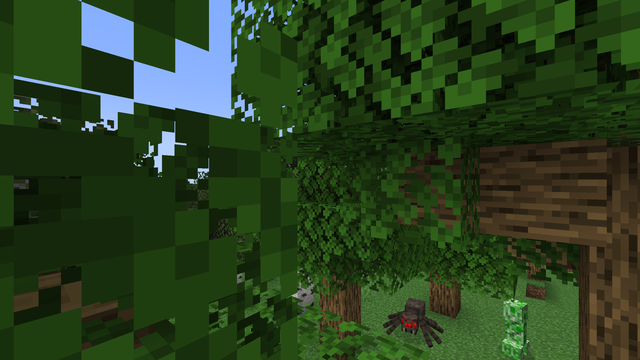araignees: (386, 295, 437, 348)
creepers: (503, 297, 527, 359)
